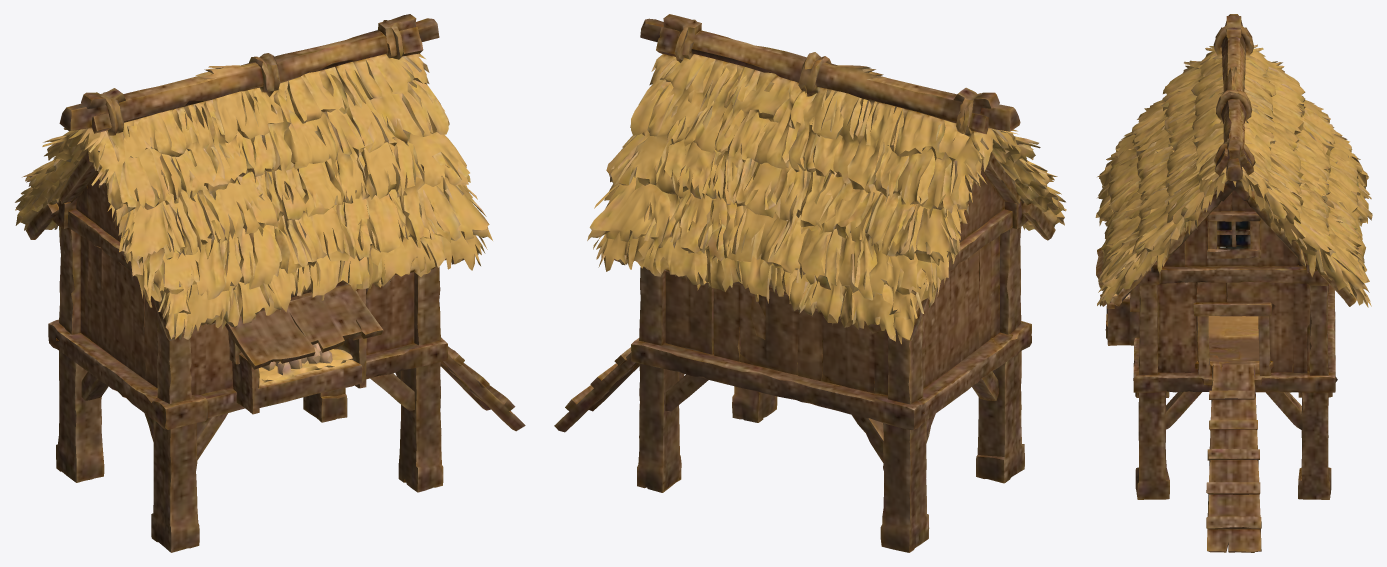
File: coop_lite.glb
The picture shows the model from 3 angles, left to right: view 1: azimuth 30°, elevation 25°; view 2: azimuth 150°, elevation 25°; view 3: azimuth 270°, elevation 25°; orthographic projection. The views are drawn at different scales.
Visible parts, largest first — view 1: geometry_0; view 2: geometry_0; view 3: geometry_0.
Part boxes in pixels (x1,y1,x2,y2): geometry_0: (15,14,525,552); geometry_0: (554,14,1066,552); geometry_0: (1095,14,1372,552).
Bounding box in the file's own units: 1.9 × 1.75 × 1.2.
Materials: 1 (1 with a texture image).
